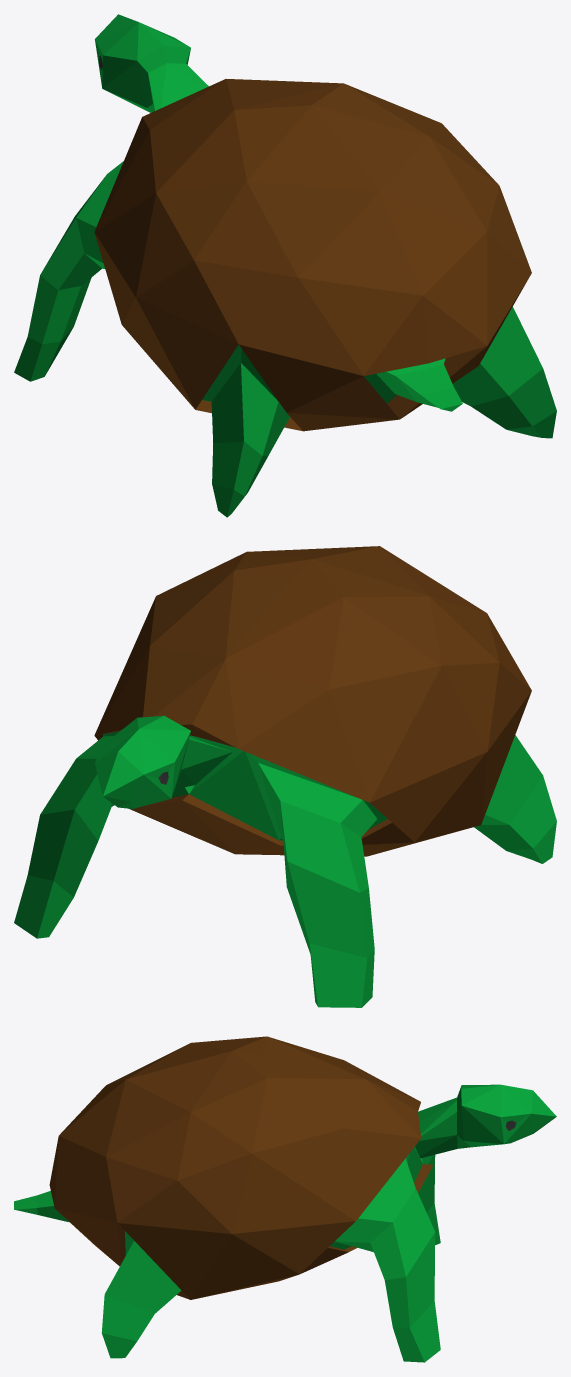
File: ShellDetached.fbx
The picture shows the model from 3 angles, top to bottom: view 1: azimuth 30°, elevation 25°; view 2: azimuth 150°, elevation 25°; view 3: azimuth 270°, elevation 25°; orthographic projection. The views are drawn at different scales.
Parts seen in each view (by area): view 1: Icosphere, Icosphere.001, Icosphere.002; view 2: Icosphere, Icosphere.001, Icosphere.002; view 3: Icosphere, Icosphere.001, Icosphere.002.
Part boxes in pixels (bbox=[...]): Icosphere: bbox=[14, 79, 556, 517]; Icosphere.001: bbox=[95, 14, 190, 112]; Icosphere.002: bbox=[148, 63, 208, 110]; Icosphere: bbox=[14, 546, 556, 1007]; Icosphere.001: bbox=[95, 715, 190, 808]; Icosphere.002: bbox=[175, 737, 232, 789]; Icosphere: bbox=[14, 1036, 440, 1362]; Icosphere.001: bbox=[457, 1084, 556, 1148]; Icosphere.002: bbox=[415, 1097, 457, 1158].
Bounding box in the file's own units: 115 × 98.56 × 198.
1 material, 1 textured.
